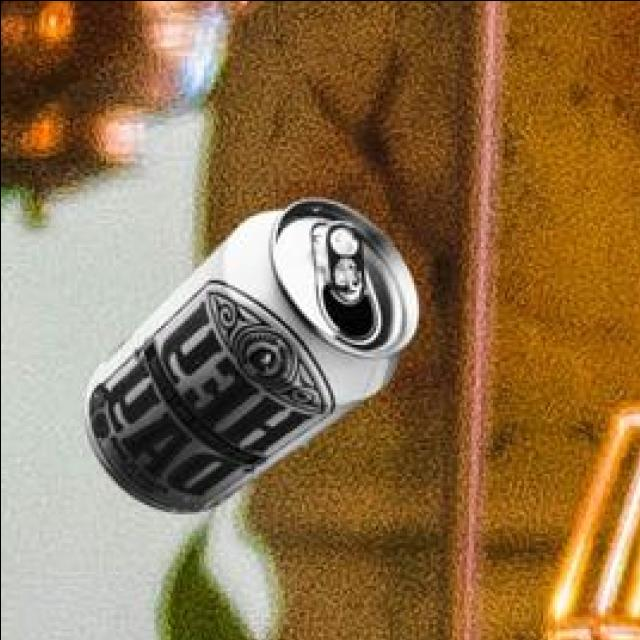logam: (80, 202, 414, 515)
